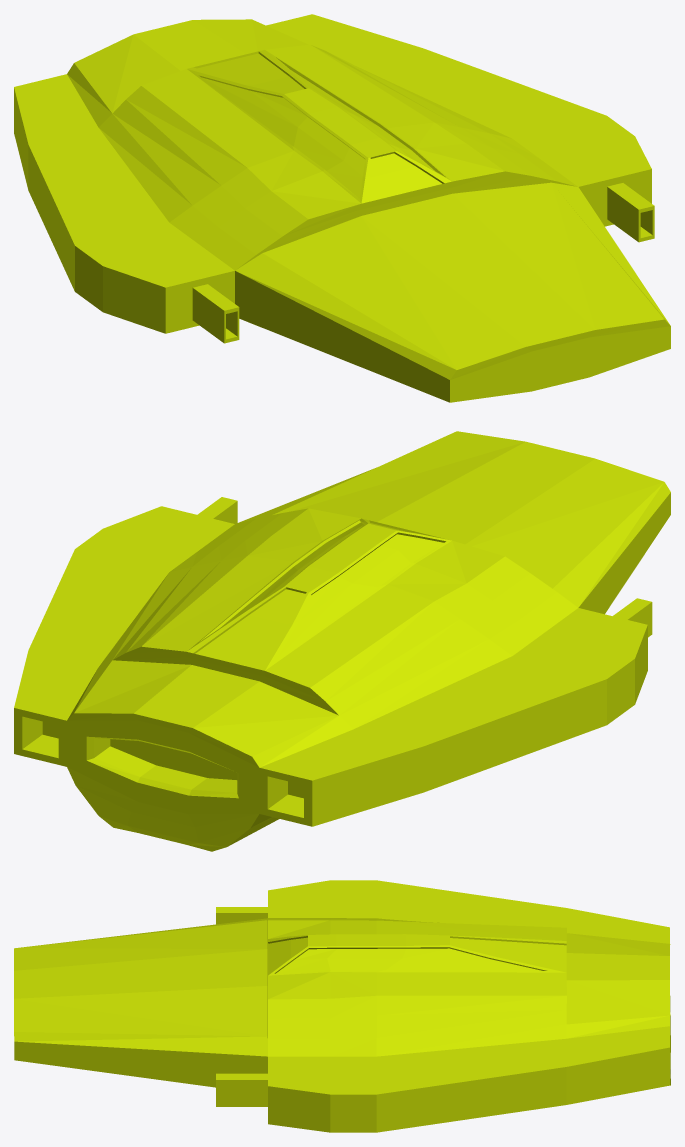
The model's file is AllyDefenderTexture.fbx.
3 renders of one model, top to bottom at view 1: azimuth 30°, elevation 25°; view 2: azimuth 150°, elevation 25°; view 3: azimuth 270°, elevation 25°, orthographic. The views are drawn at different scales.
Parts seen in each view (by area): view 1: DefenderShip1; view 2: DefenderShip1; view 3: DefenderShip1.
Boxes of the visible parts, x1,y1,x2,y2 form: DefenderShip1: [14, 14, 670, 402]; DefenderShip1: [14, 431, 670, 851]; DefenderShip1: [14, 880, 670, 1132].
Bounding box in the file's own units: 75.13 × 21.64 × 97.36.
